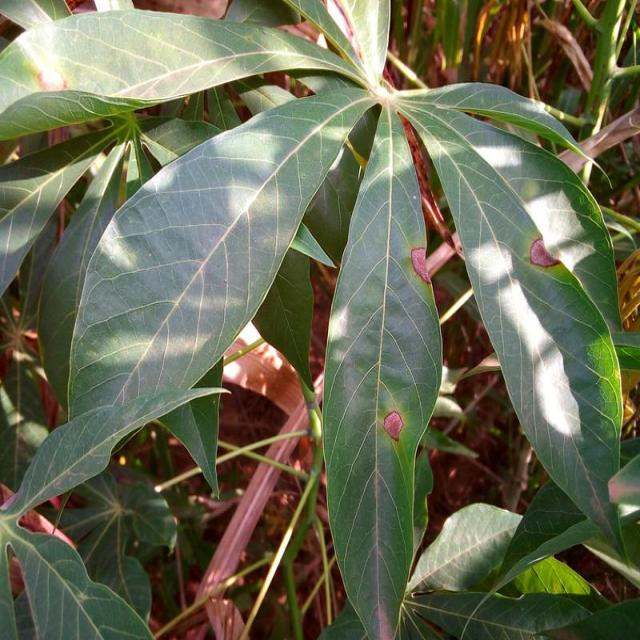cassava leaf: (1, 2, 636, 637), (1, 84, 379, 524), (397, 84, 631, 570), (320, 98, 443, 638)
